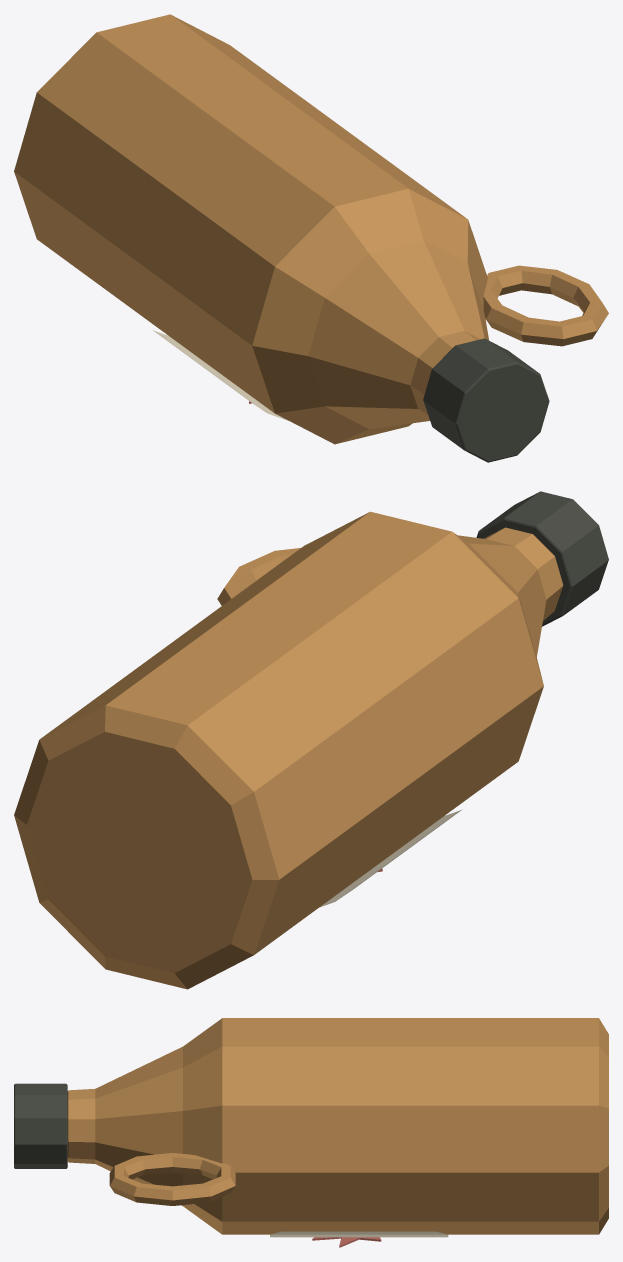
File: maple_syrup.glb
3 renders of one model, top to bottom at view 1: azimuth 30°, elevation 25°; view 2: azimuth 150°, elevation 25°; view 3: azimuth 270°, elevation 25°, orthographic. The views are drawn at different scales.
Visible parts, largest first — view 1: maple_syrup; view 2: maple_syrup; view 3: maple_syrup.
Boxes of the visible parts, x1,y1,x2,y2 form: maple_syrup: (14, 14, 608, 462); maple_syrup: (14, 491, 608, 989); maple_syrup: (14, 1018, 608, 1247).
Size of the model in its own units: 0.086 by 0.0657 by 0.18.
